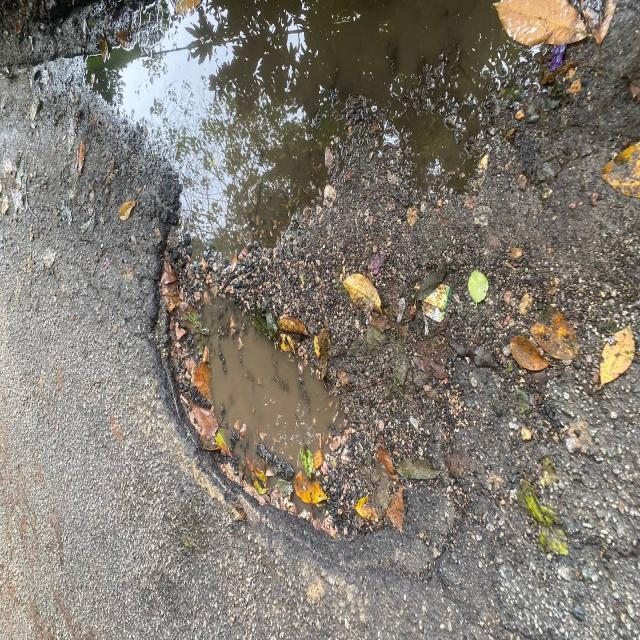pothole: (93, 130, 532, 640)
